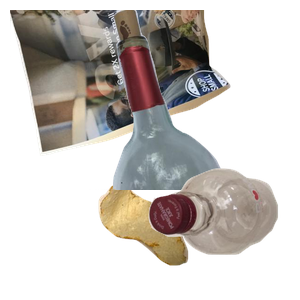glass: (89, 10, 300, 190)
paper: (10, 10, 233, 158)
plastic: (146, 166, 300, 300)
trash: (96, 181, 277, 300)
